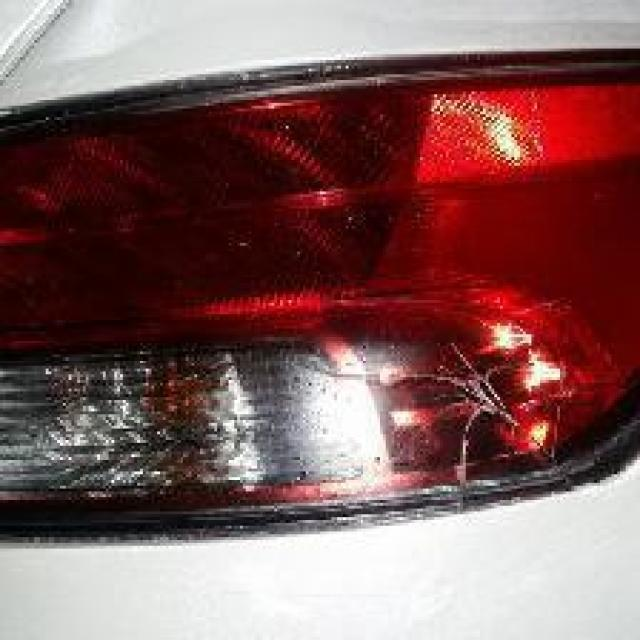damaged: (277, 337, 589, 497)
